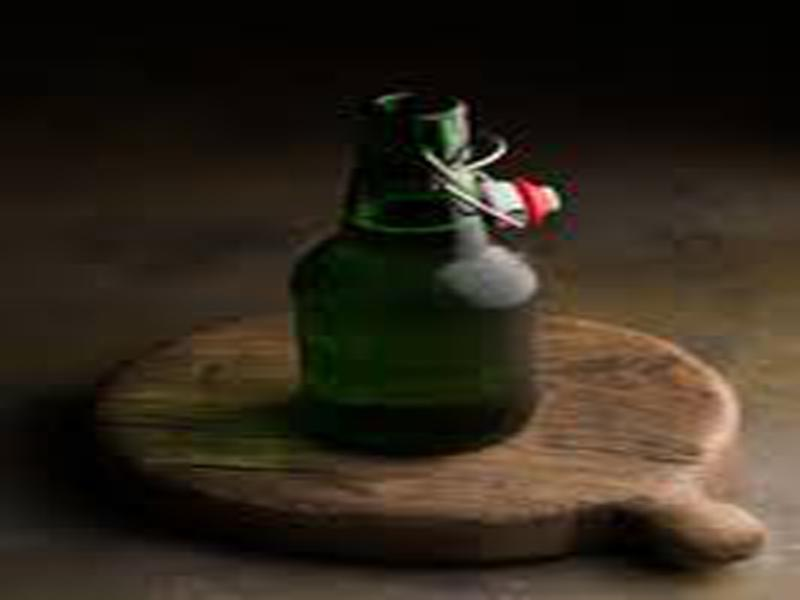Beer: (301, 87, 535, 447)
